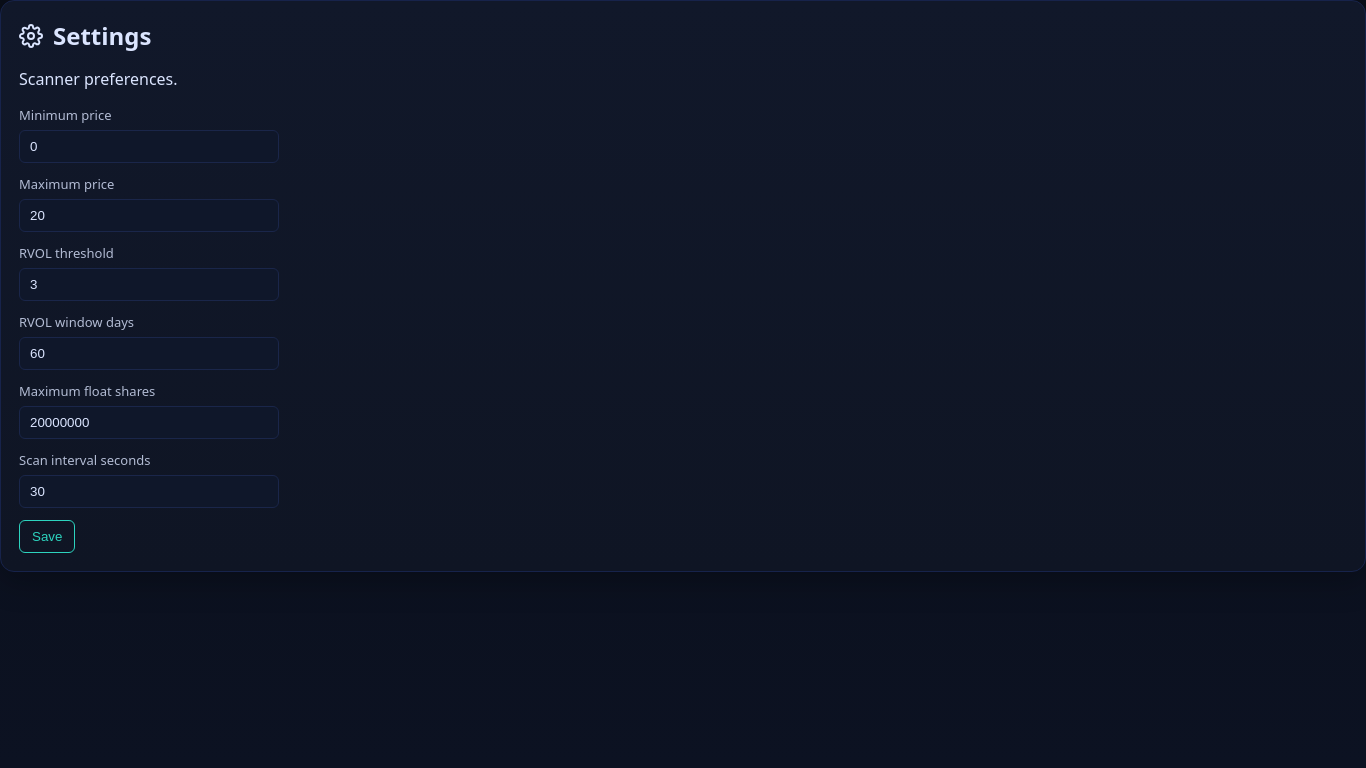
Settings › saves scanner settings
Step 1. Replace the text in the number field labelled "Maximum price" with "15" → x=149, y=216, box [19,199,279,232]
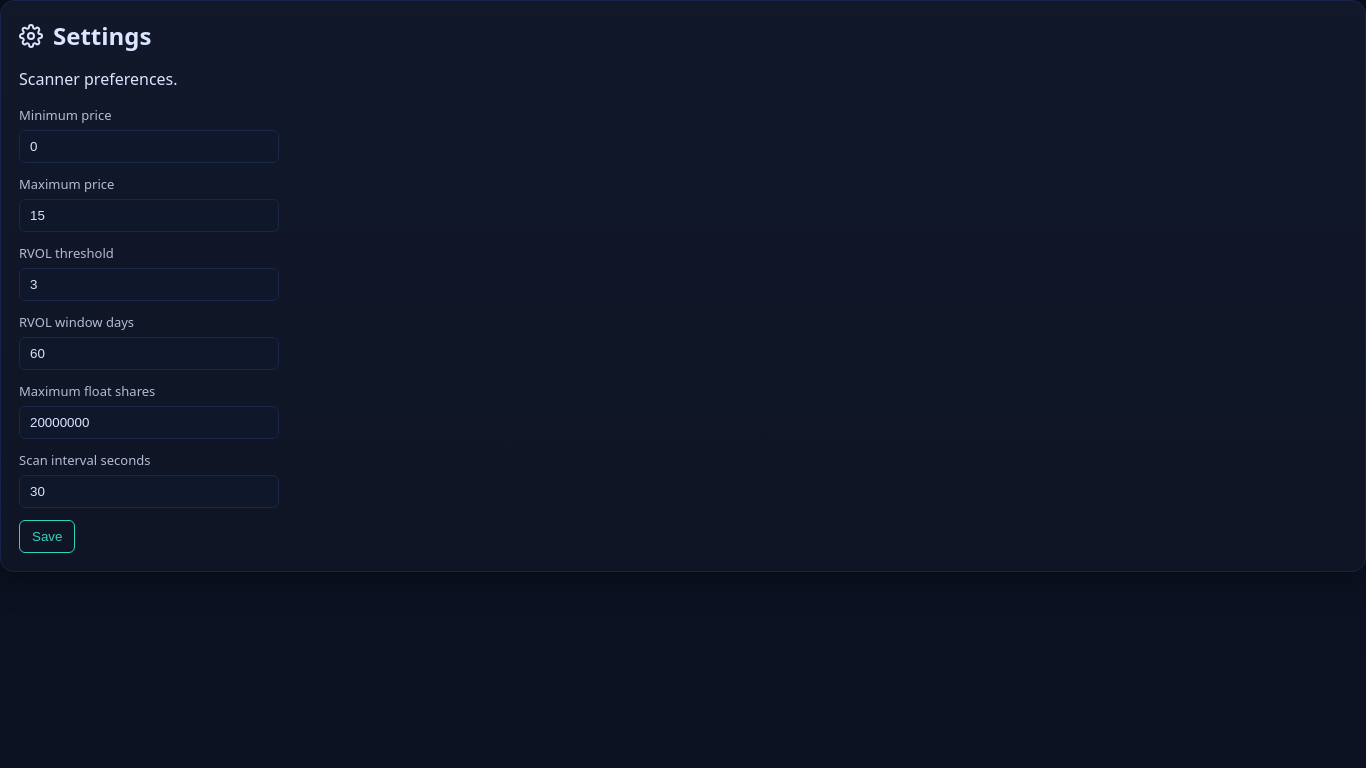
Step 2. Click the button "Save" → x=47, y=536, box [19,520,75,553]
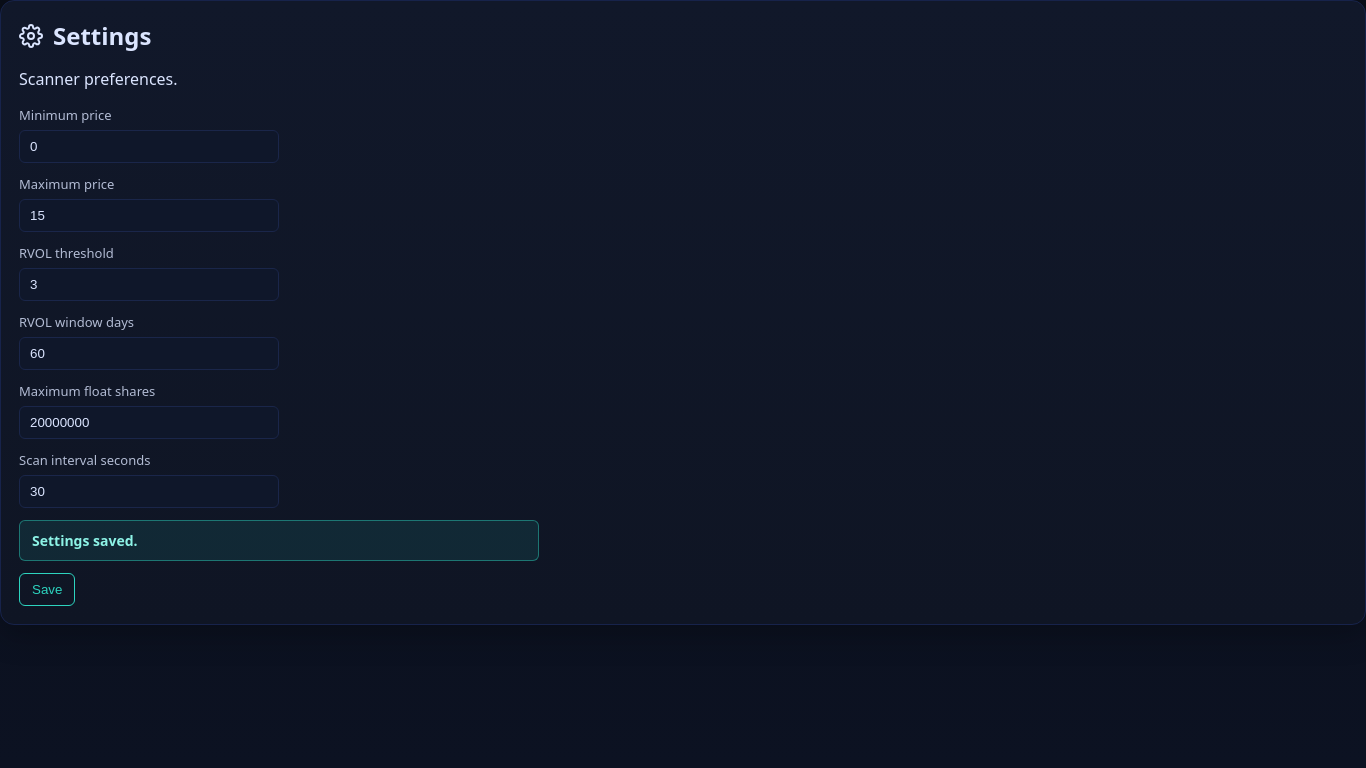
Check: the message reads "Settings saved.", box [32,531,138,550]
